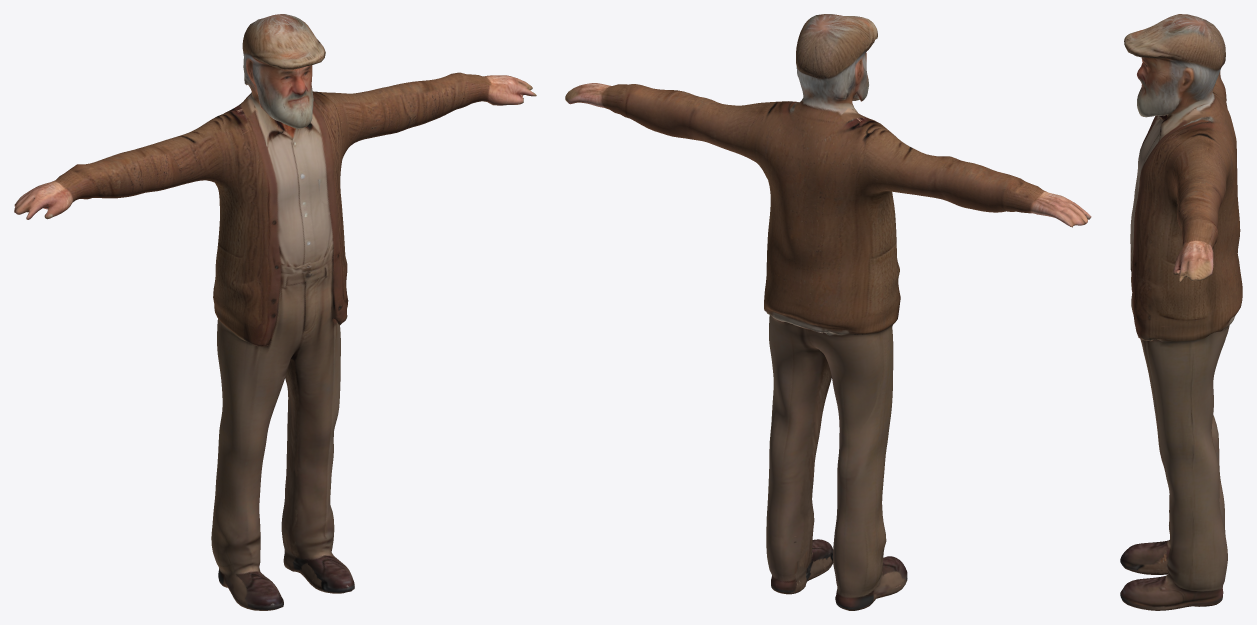
File: Meshy_AI_Grandfather_0125140945_texture.fbx
The picture shows the model from 3 angles, left to right: view 1: azimuth 30°, elevation 25°; view 2: azimuth 150°, elevation 25°; view 3: azimuth 270°, elevation 25°; orthographic projection.
Parts seen in each view (by area): view 1: Mesh0; view 2: Mesh0; view 3: Mesh0.
Part boxes in pixels (box(x1,y1,x2,y2)): Mesh0: box(14, 14, 536, 610); Mesh0: box(565, 14, 1091, 610); Mesh0: box(1120, 14, 1242, 610).
Size of the model in its own units: 192 by 201 by 39.51.
Materials: 1 (1 with a texture image).
